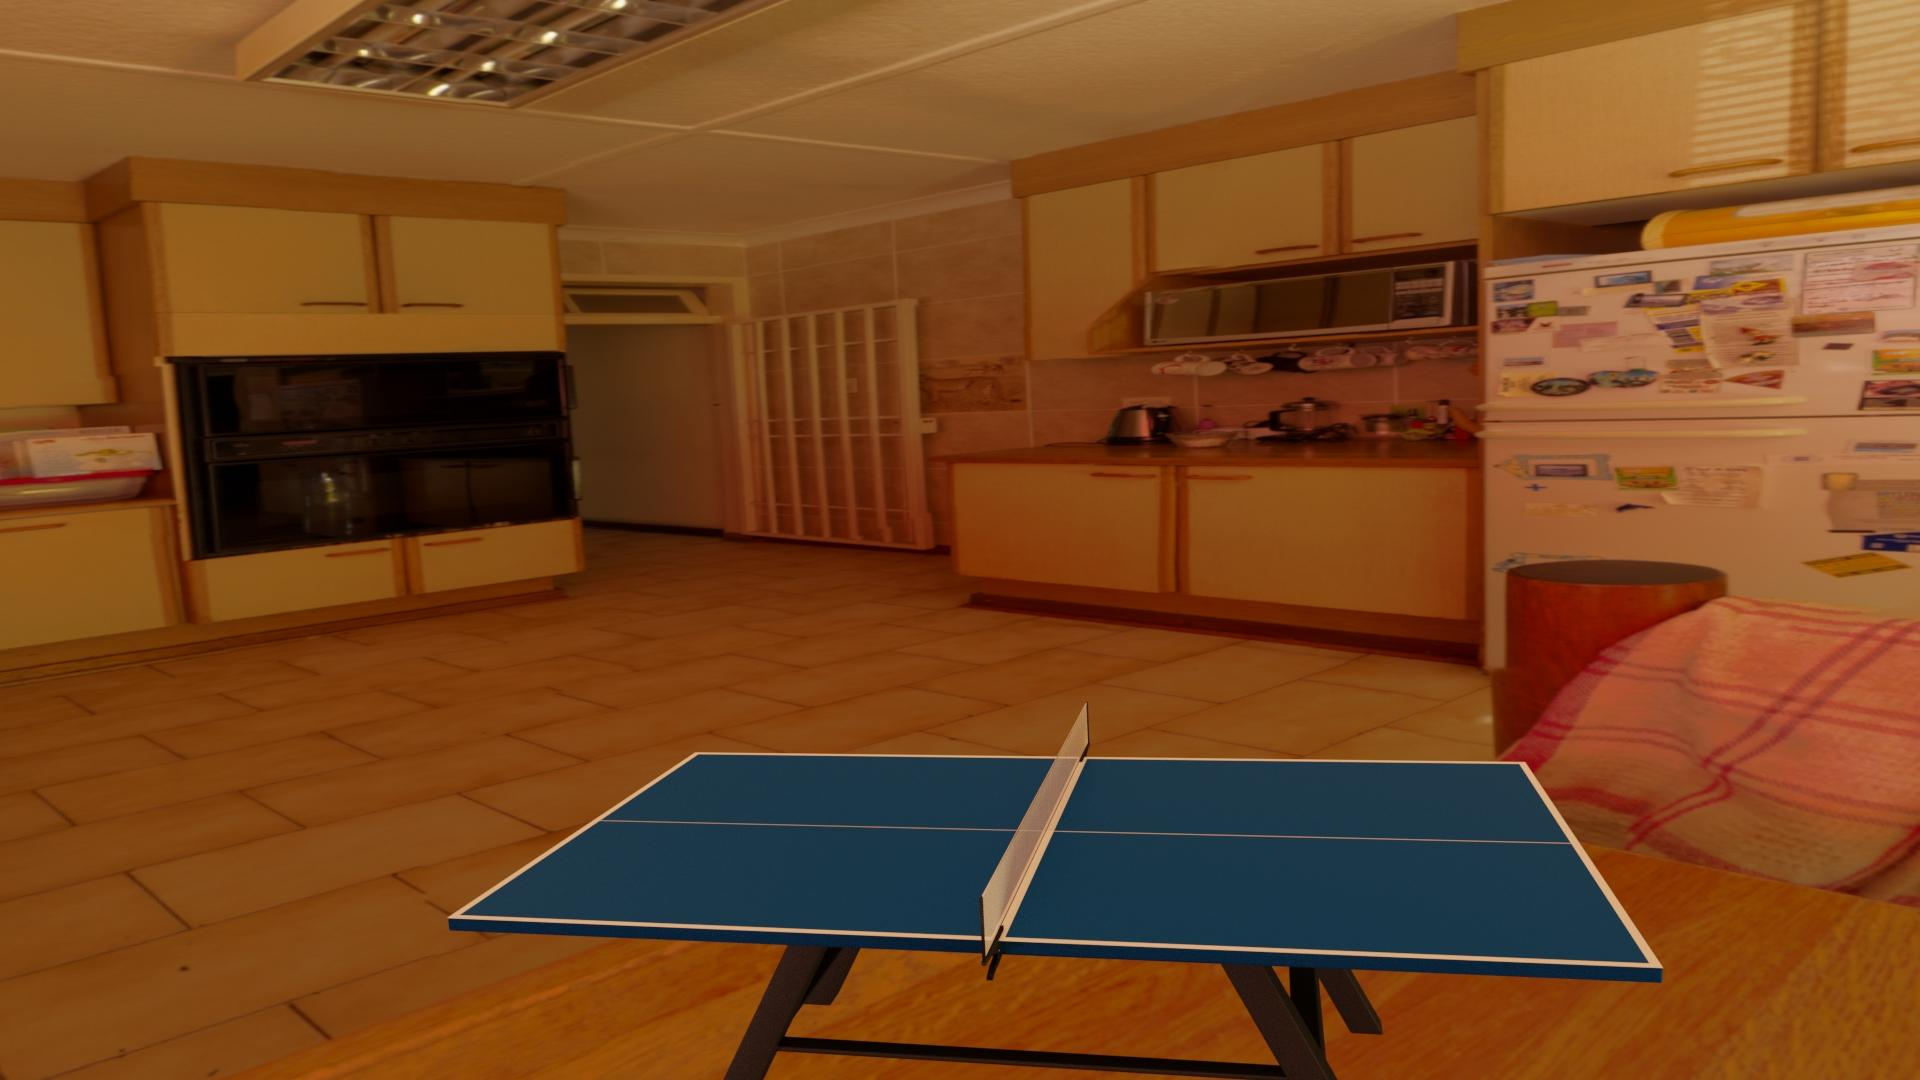table: (459, 754, 1650, 964)
